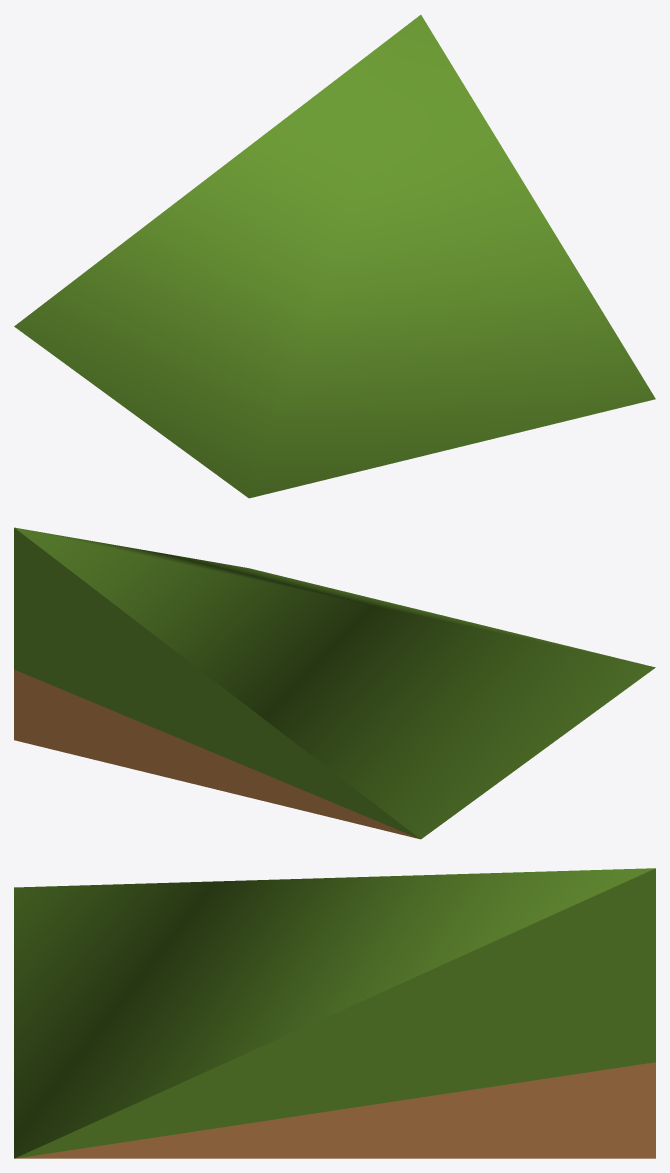
File: TileGrassMiring2ArahQuarter.fbx
3 views of the same model, one above another, from view 1: azimuth 30°, elevation 25°; view 2: azimuth 150°, elevation 25°; view 3: azimuth 270°, elevation 25° (orthographic). The views are drawn at different scales.
Visible parts, largest first — view 1: Tile_Center; view 2: Tile_Center; view 3: Tile_Center.
Boxes of the visible parts, x1,y1,x2,y2 form: Tile_Center: [14, 15, 655, 498]; Tile_Center: [14, 527, 655, 839]; Tile_Center: [14, 868, 655, 1158].
Size of the model in its own units: 200 by 99.88 by 200.
